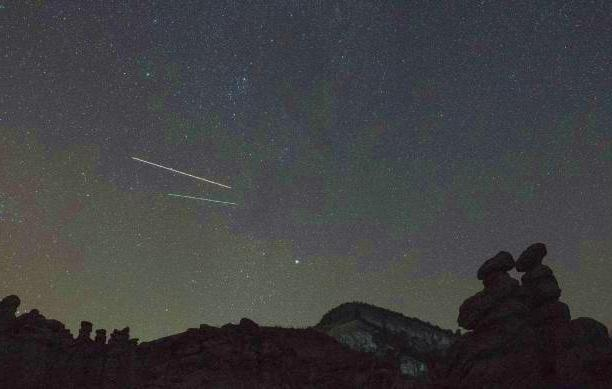meteorite: (107, 156, 231, 191), (170, 193, 244, 216)
